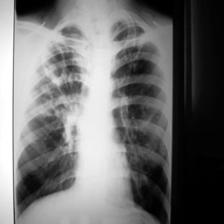tuberculosis: (13, 18, 170, 224)
